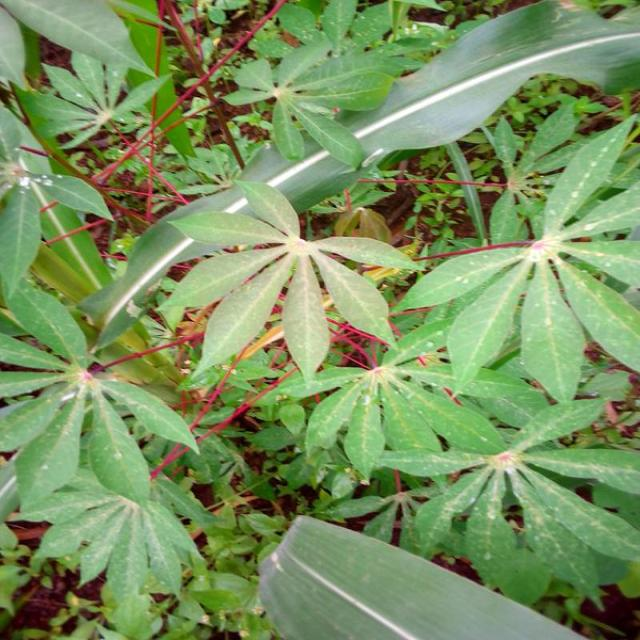cassava leaf: (2, 0, 640, 635), (77, 0, 640, 356), (158, 176, 419, 387), (258, 513, 590, 638)
